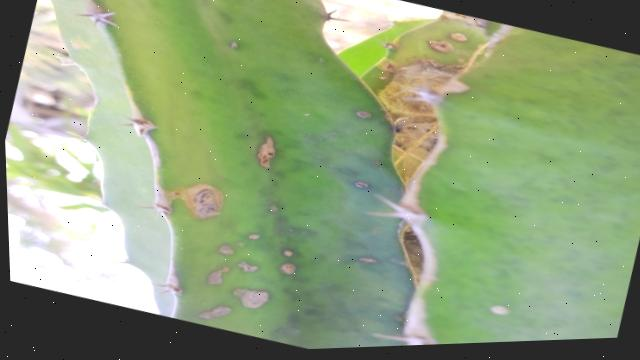stemcanker: (172, 183, 224, 221), (231, 285, 273, 313), (253, 134, 280, 175), (196, 301, 237, 323), (231, 257, 263, 275), (205, 241, 237, 259), (201, 267, 229, 287), (421, 38, 451, 55), (276, 260, 302, 278), (448, 31, 471, 45)
